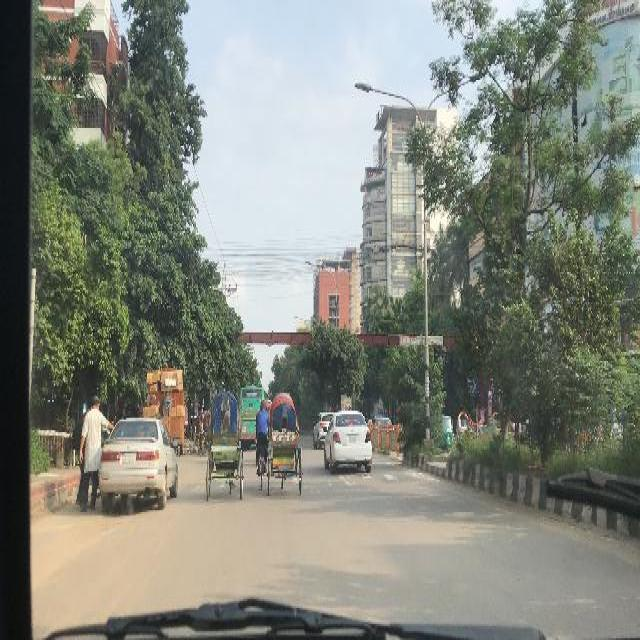bicycle: (256, 401, 266, 491)
bus: (240, 383, 256, 449)
car: (100, 418, 178, 510), (328, 413, 372, 472)
rickshaw: (266, 390, 302, 495), (206, 390, 238, 500), (456, 410, 474, 436), (203, 412, 211, 456), (192, 414, 200, 454)
suv: (312, 411, 328, 449)
three wheelers -CNG-: (439, 412, 453, 452)
